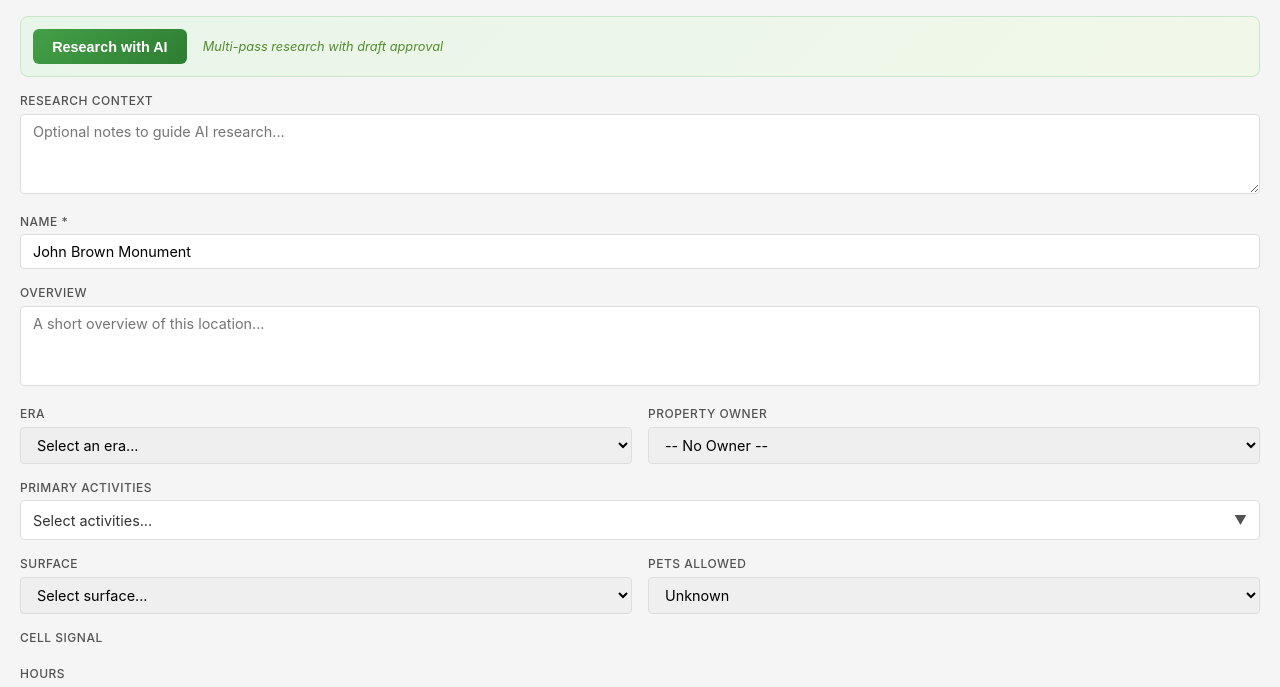
it: EditView AI research › says so when no page could be read, and lists what was read and what was not (#724)
What coordinates should you click on to do the following:
click the button "Research with AI"
I would click on:
 (110, 47)
Its box is [33,29,187,64].
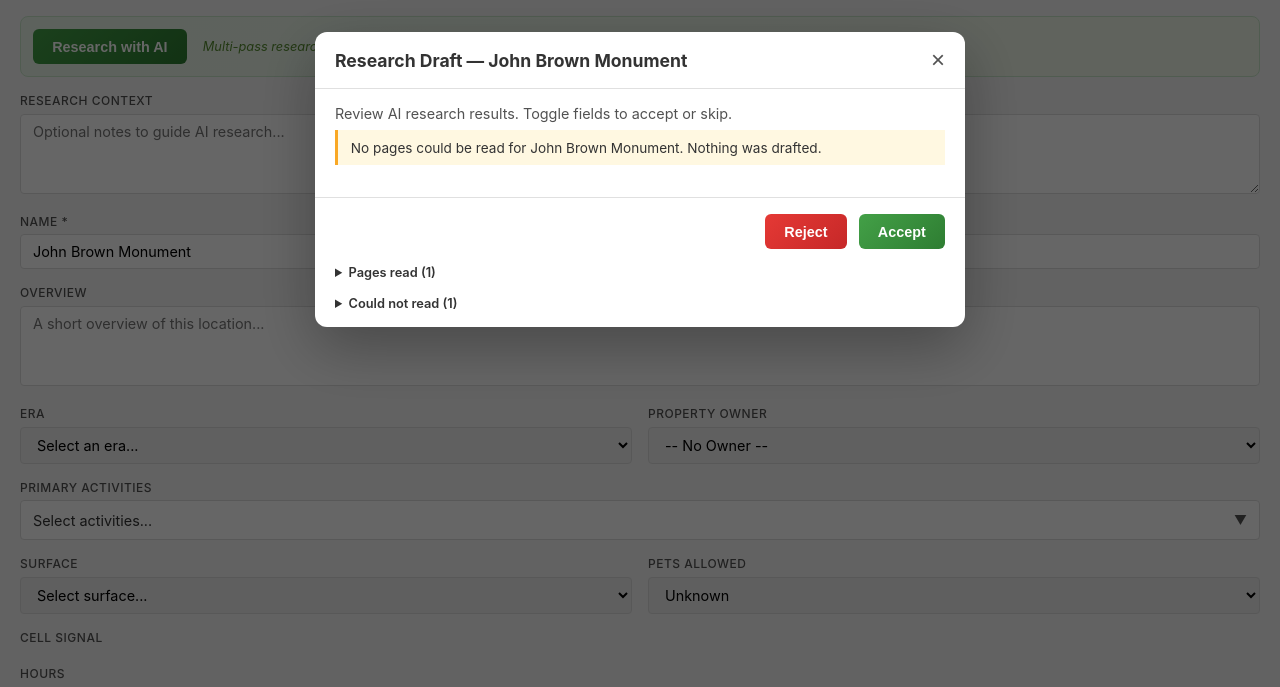
Result: the text "No pages could be read for John Brown Monument. Nothing was drafted." is shown at [335,130,945,165]
Result: the heading "Pages read (1)" is shown at [348,265,436,280]
Result: the heading "Could not read (1)" is shown at [348,296,458,311]
